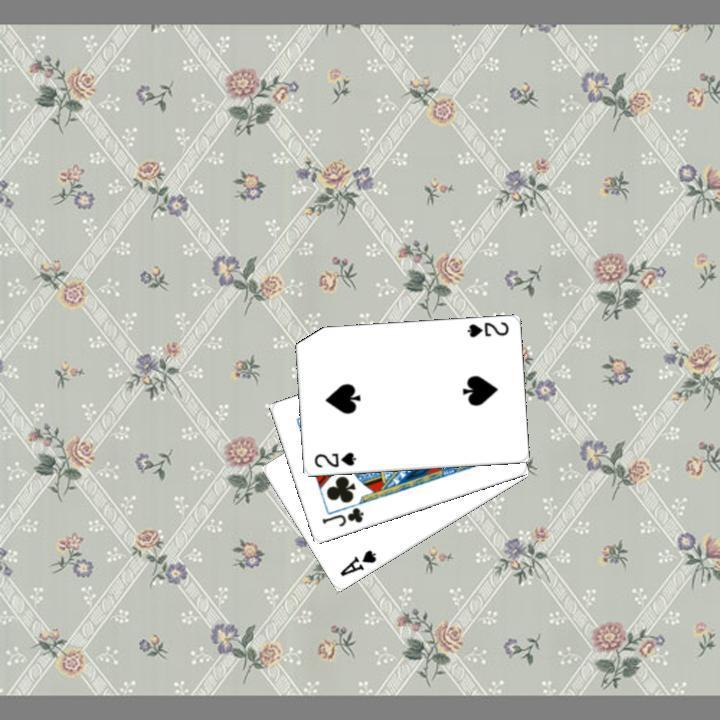2: (309, 448, 358, 470), (462, 318, 511, 339)
A: (335, 546, 378, 579)
J: (317, 503, 365, 529)
